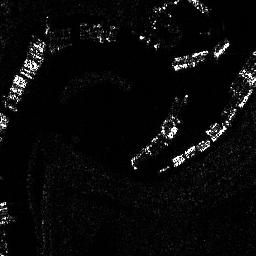ship: (214, 41, 231, 56)
